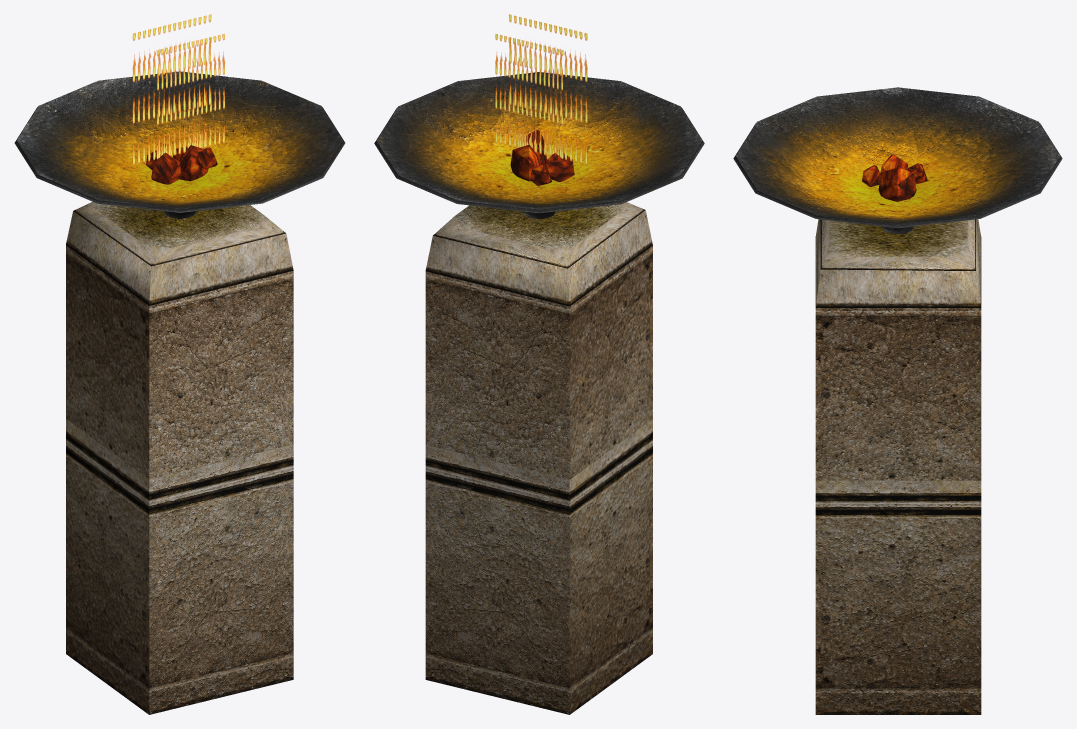
The model's file is mm9_deco_dragonbrazier2.glb.
3 views of the same model, side by side, from view 1: azimuth 30°, elevation 25°; view 2: azimuth 150°, elevation 25°; view 3: azimuth 270°, elevation 25° (orthographic).
Visible parts, largest first — view 1: Dragonbrazier2; view 2: Dragonbrazier2; view 3: Dragonbrazier2.
Part boxes in pixels (bbox=[...]): Dragonbrazier2: bbox=[14, 14, 345, 714]; Dragonbrazier2: bbox=[374, 14, 704, 714]; Dragonbrazier2: bbox=[733, 87, 1062, 714].
Bounding box in the file's own units: 1.06 × 2.28 × 1.06.
Materials: 2 (2 with a texture image).
